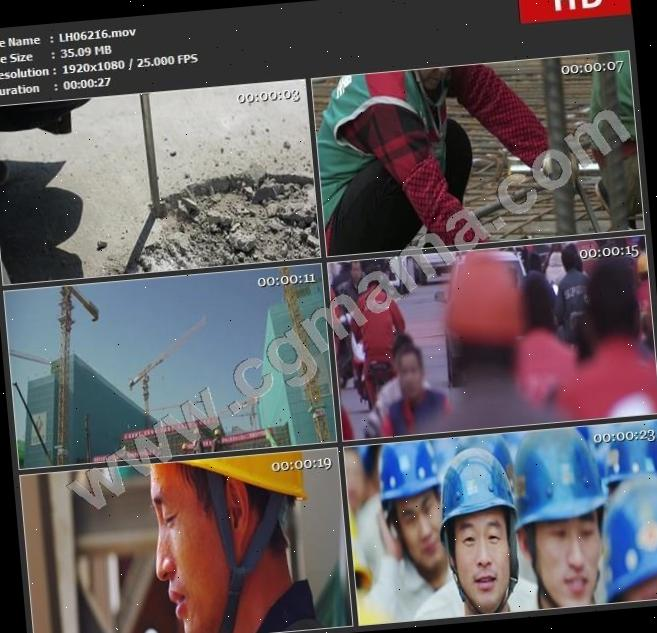helmet: (511, 430, 616, 530), (432, 443, 517, 521)
